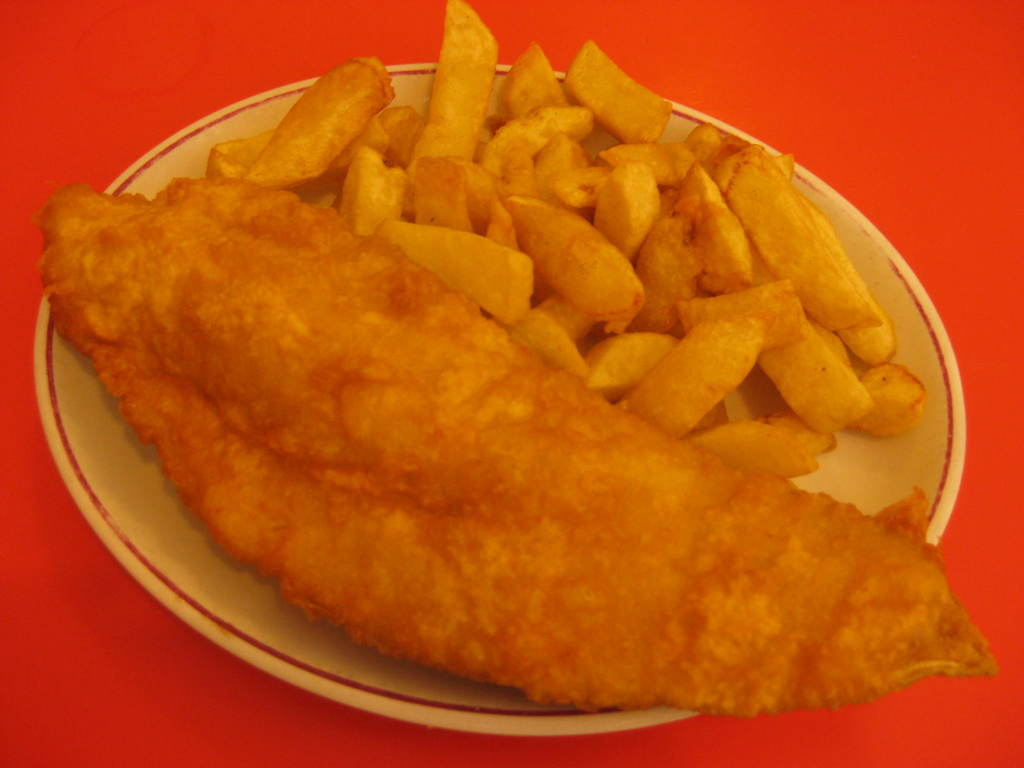French fries: (205, 0, 925, 479)
